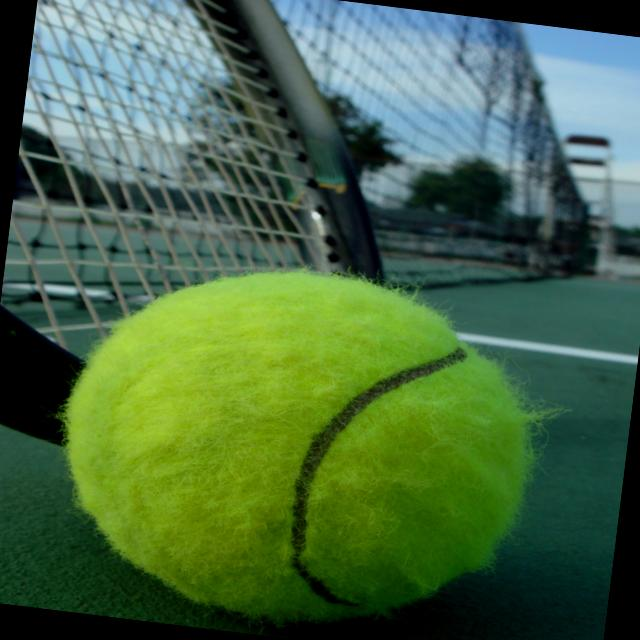Tennis Ball: (33, 235, 578, 640)
